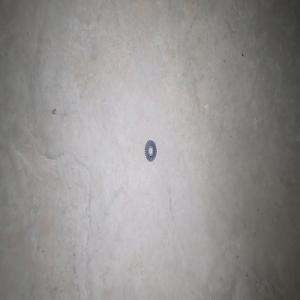Washer: (144, 139, 156, 161)
